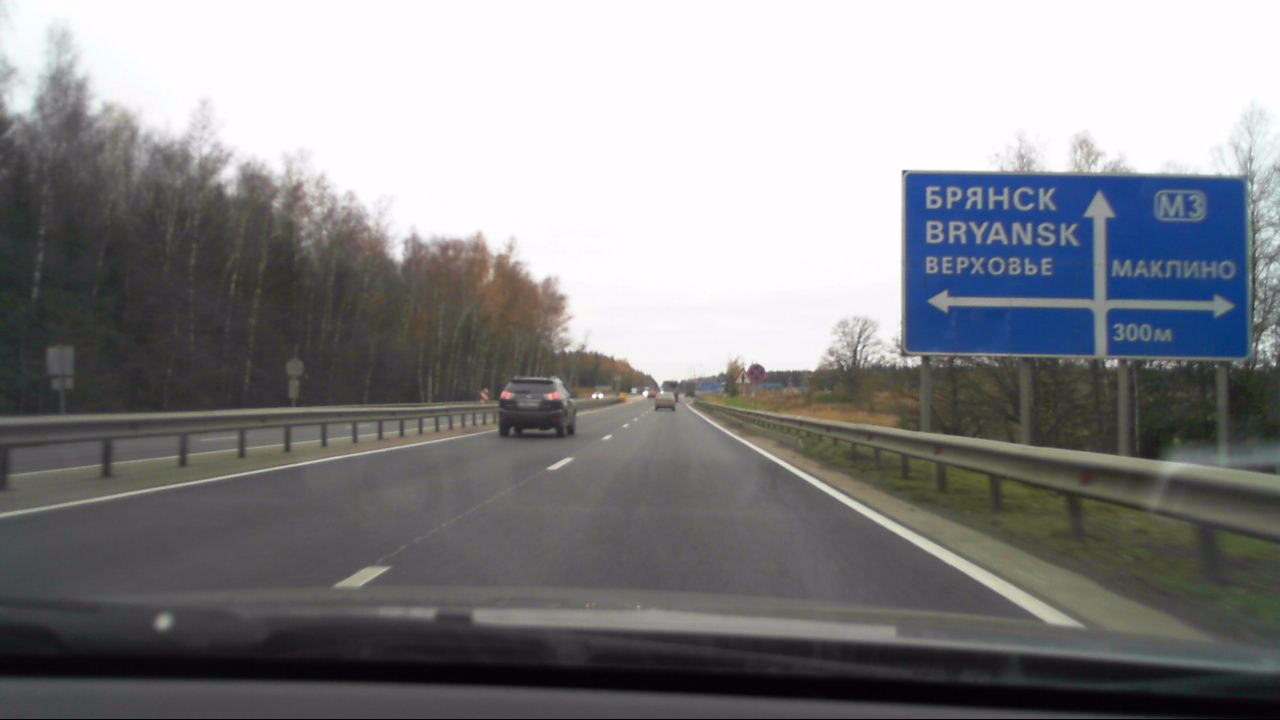No Parking: (746, 363, 766, 381)
